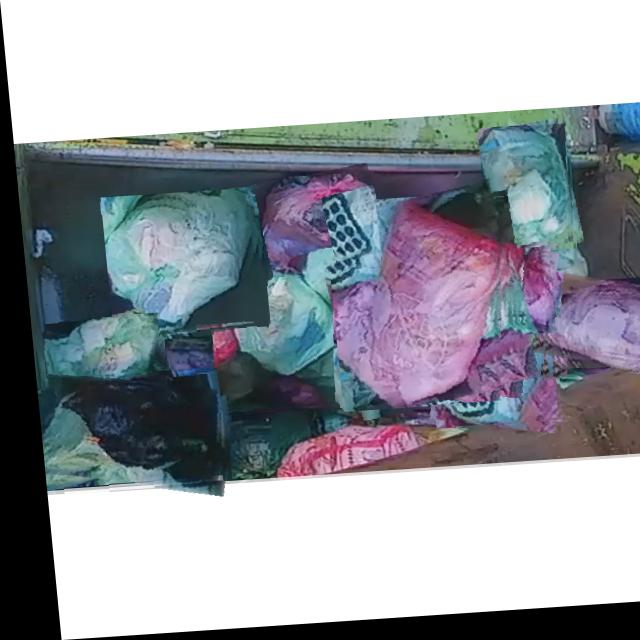general_trashbag: (203, 258, 357, 409), (101, 193, 252, 338), (425, 333, 551, 432), (476, 135, 569, 256), (37, 316, 153, 402)
other_trashbag: (327, 206, 499, 412), (33, 378, 212, 487), (254, 179, 372, 282), (534, 291, 640, 380), (507, 260, 547, 341)
